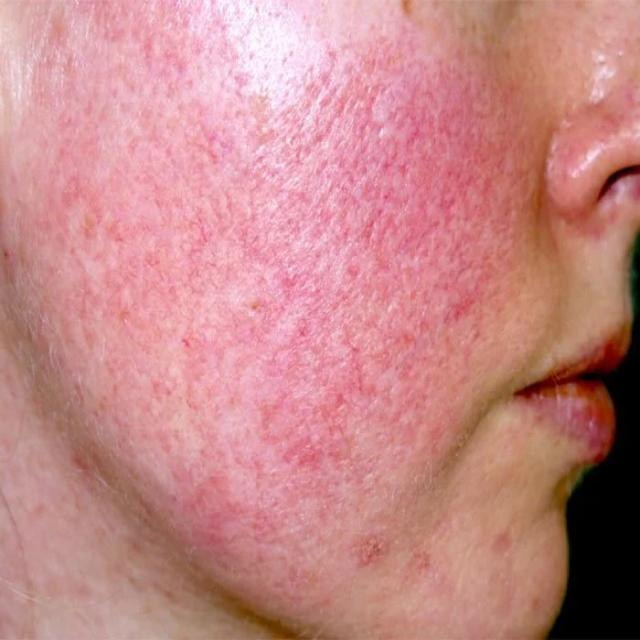Rosacea: (182, 98, 458, 509)
